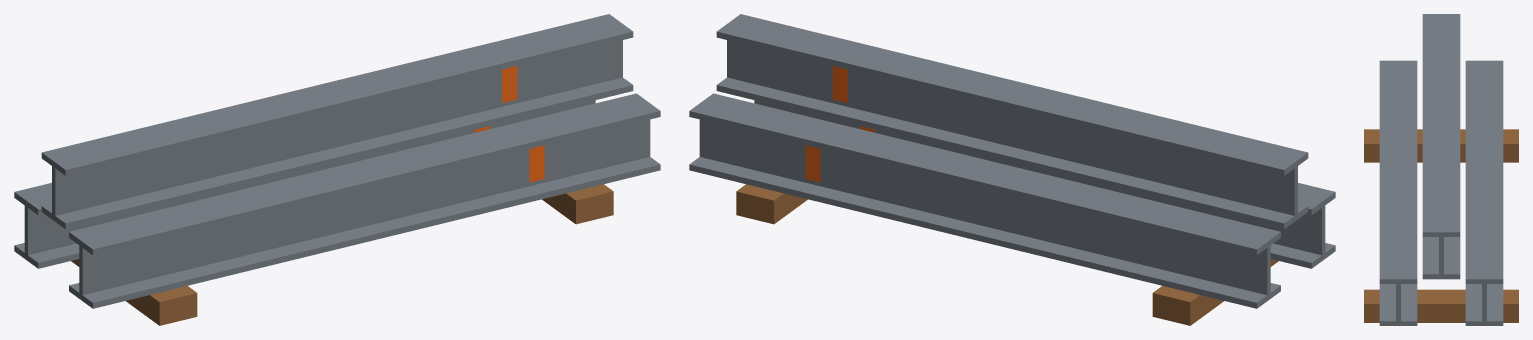
File: steel_beams.glb
3 renders of one model, left to right at view 1: azimuth 30°, elevation 25°; view 2: azimuth 150°, elevation 25°; view 3: azimuth 270°, elevation 25°, orthographic. The views are drawn at different scales.
Parts seen in each view (by area): view 1: beams_beam_steel, blocks_bridge_grain, marks_beam_mark; view 2: beams_beam_steel, blocks_bridge_grain, marks_beam_mark; view 3: beams_beam_steel, blocks_bridge_grain.
Boxes of the visible parts, x1,y1,x2,y2 form: beams_beam_steel: (14, 14, 660, 308); blocks_bridge_grain: (71, 184, 613, 325); marks_beam_mark: (474, 66, 544, 182); beams_beam_steel: (689, 14, 1335, 308); blocks_bridge_grain: (736, 184, 1278, 325); marks_beam_mark: (805, 66, 875, 182); beams_beam_steel: (1379, 14, 1503, 325); blocks_bridge_grain: (1364, 129, 1518, 322).
Size of the model in its own units: 3 by 0.72 by 0.9.
